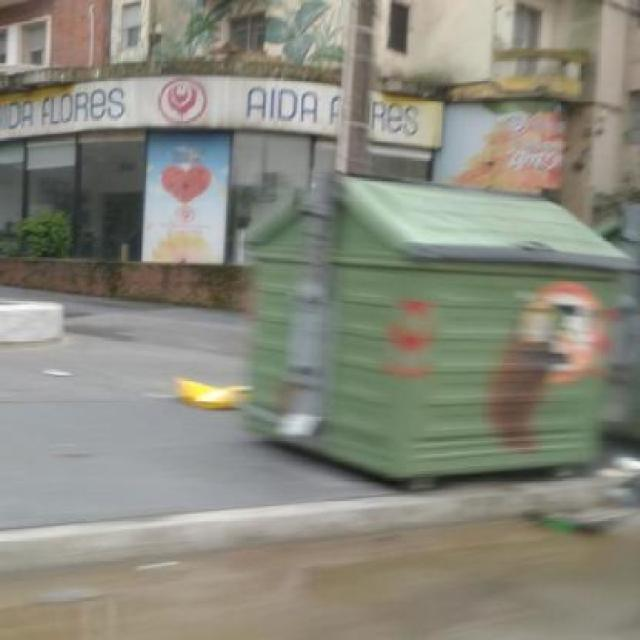garbage: (569, 446, 640, 546), (171, 369, 246, 419)
